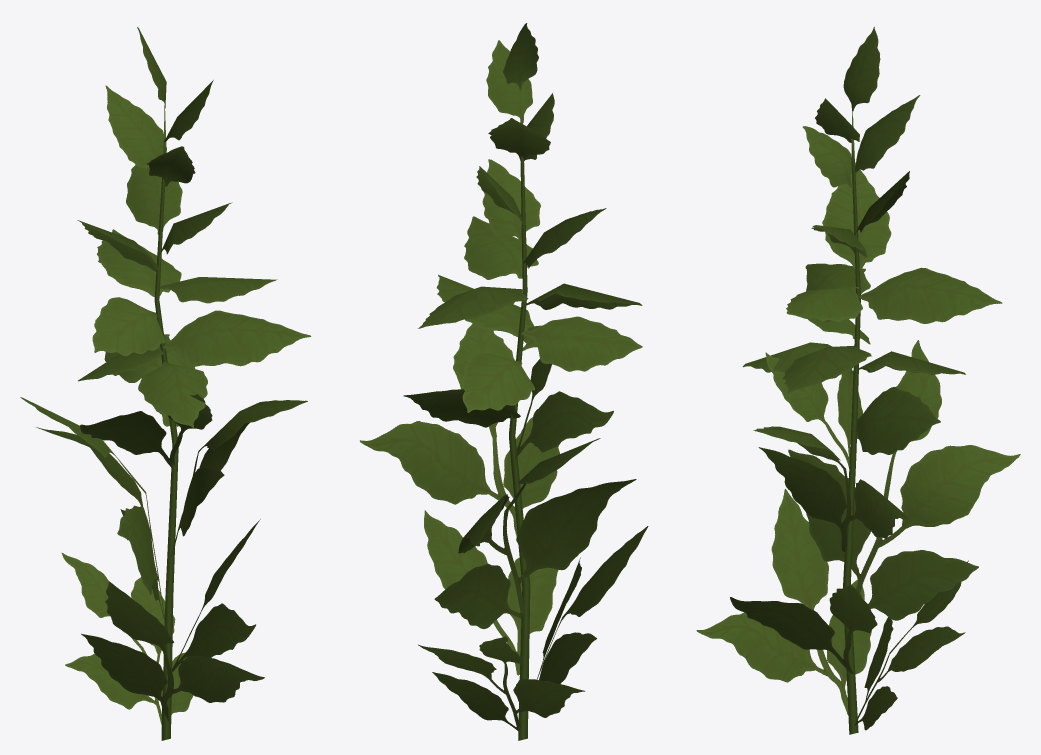
File: MSH_fwOF_ForestPlant_02.fbx
The picture shows the model from 3 angles, left to right: view 1: azimuth 30°, elevation 25°; view 2: azimuth 150°, elevation 25°; view 3: azimuth 270°, elevation 25°; orthographic projection. The views are drawn at different scales.
Visible parts, largest first — view 1: MSH_fwOF_ForestPlant_02; view 2: MSH_fwOF_ForestPlant_02; view 3: MSH_fwOF_ForestPlant_02.
Boxes of the visible parts, <box> form: MSH_fwOF_ForestPlant_02: <box>20,27,311,740</box>; MSH_fwOF_ForestPlant_02: <box>360,23,648,740</box>; MSH_fwOF_ForestPlant_02: <box>696,26,1020,734</box>.
Bounding box in the file's own units: 0.2722 × 0.7476 × 0.3234.
